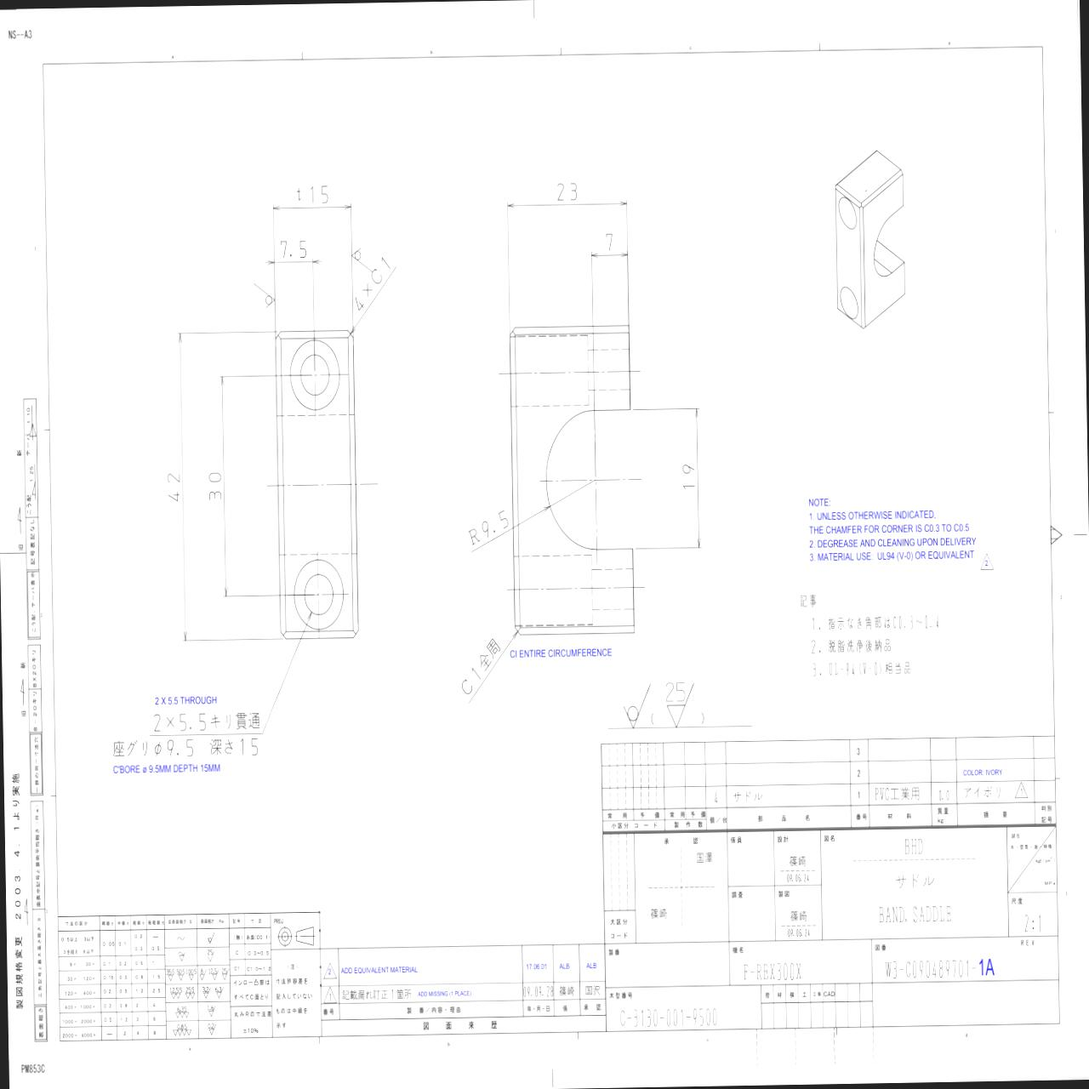basic_dimension: (280, 239, 307, 259), (556, 182, 577, 203), (207, 472, 222, 501), (168, 473, 180, 503), (682, 464, 696, 489), (606, 232, 613, 251)
dimension_chamfer_symbol: (367, 255, 392, 289)
dimension_diameter_symbol: (153, 739, 194, 758)
dimension_radius_symbol: (467, 509, 510, 546)
dimension_thickness_symbol: (295, 184, 329, 203)
surface_finish_symbol: (663, 676, 698, 734), (623, 680, 652, 729), (252, 280, 277, 310), (345, 245, 368, 269)
